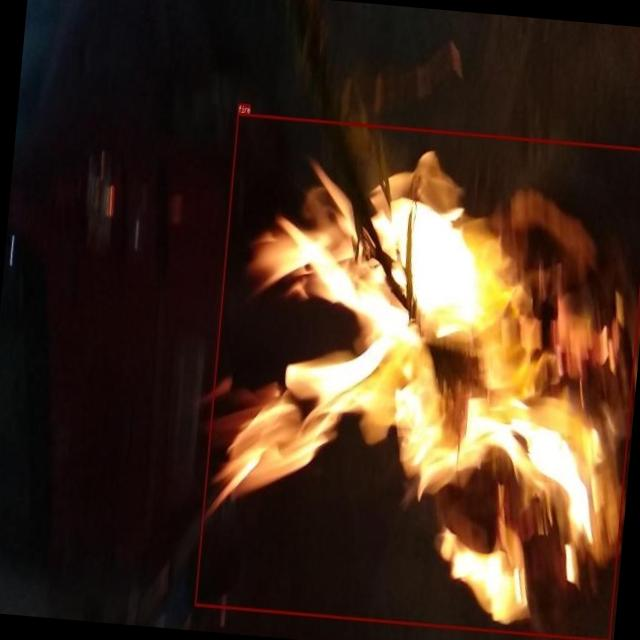fire: (193, 112, 640, 640)
